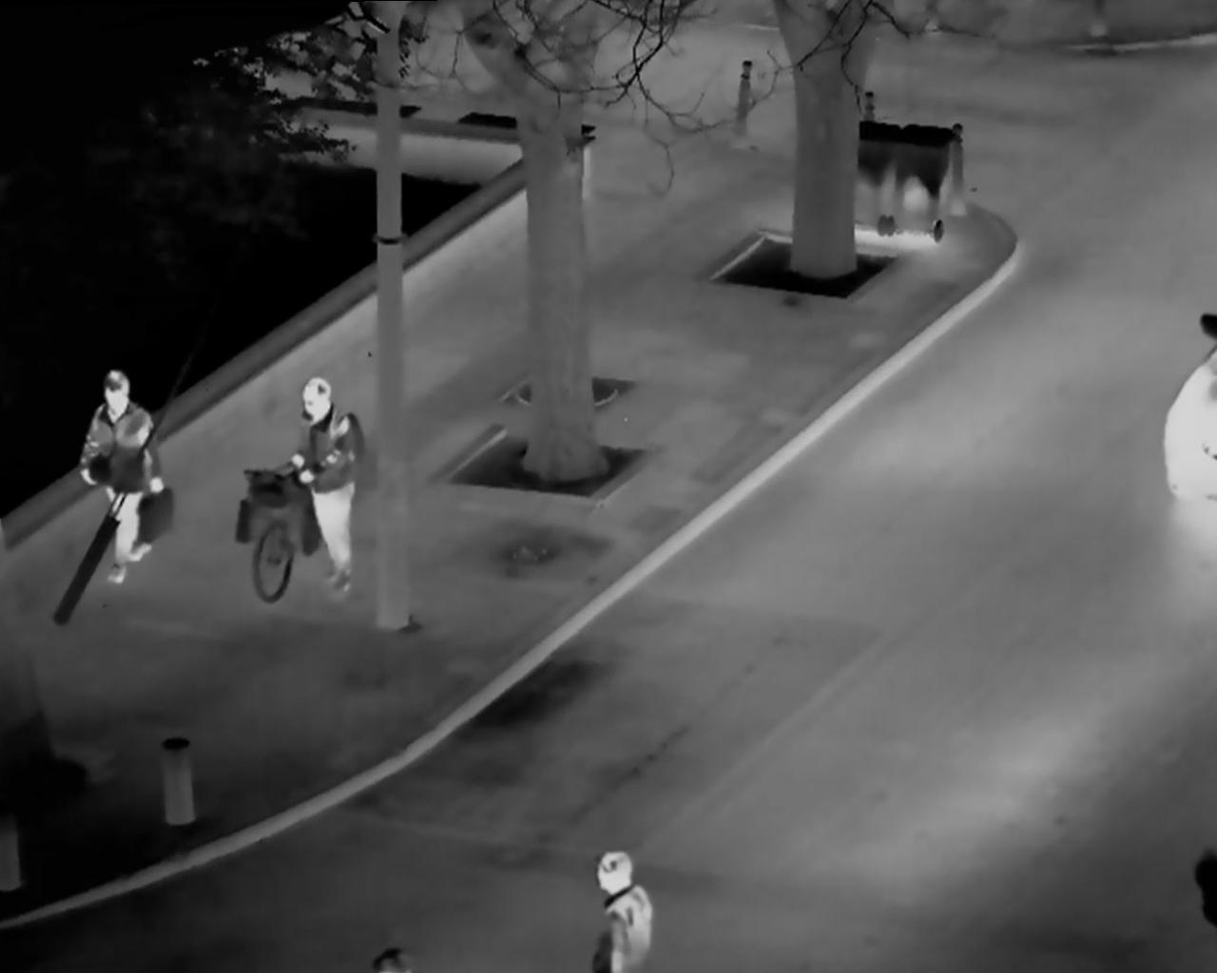person: (62, 353, 179, 604), (284, 369, 379, 593), (570, 845, 709, 973)
